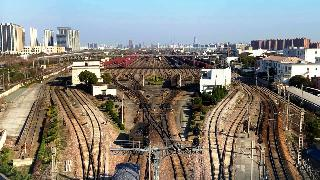train: (128, 121, 154, 148)
